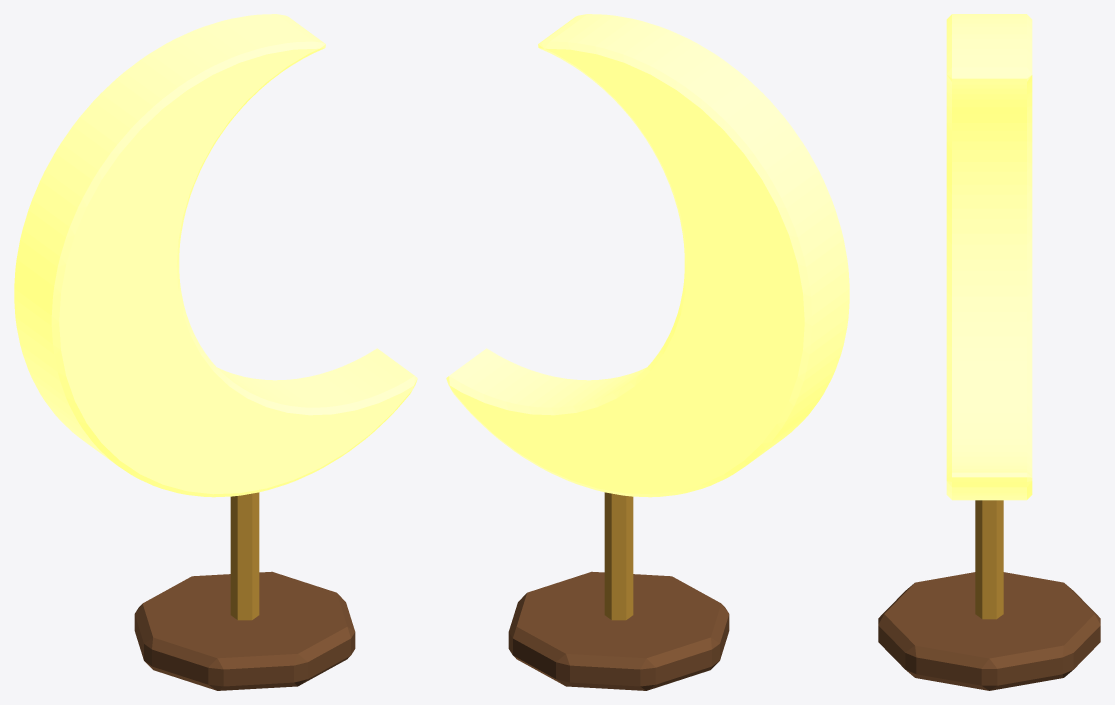
File: moon_lamp.glb
The picture shows the model from 3 angles, left to right: view 1: azimuth 30°, elevation 25°; view 2: azimuth 150°, elevation 25°; view 3: azimuth 270°, elevation 25°; orthographic projection.
Visible parts, largest first — view 1: moon_lamp; view 2: moon_lamp; view 3: moon_lamp.
Part boxes in pixels (x1,y1,x2,y2): moon_lamp: (14,14,417,690); moon_lamp: (446,14,849,690); moon_lamp: (878,14,1100,690).
Bounding box in the file's own units: 0.2931 × 0.4697 × 0.1554.
